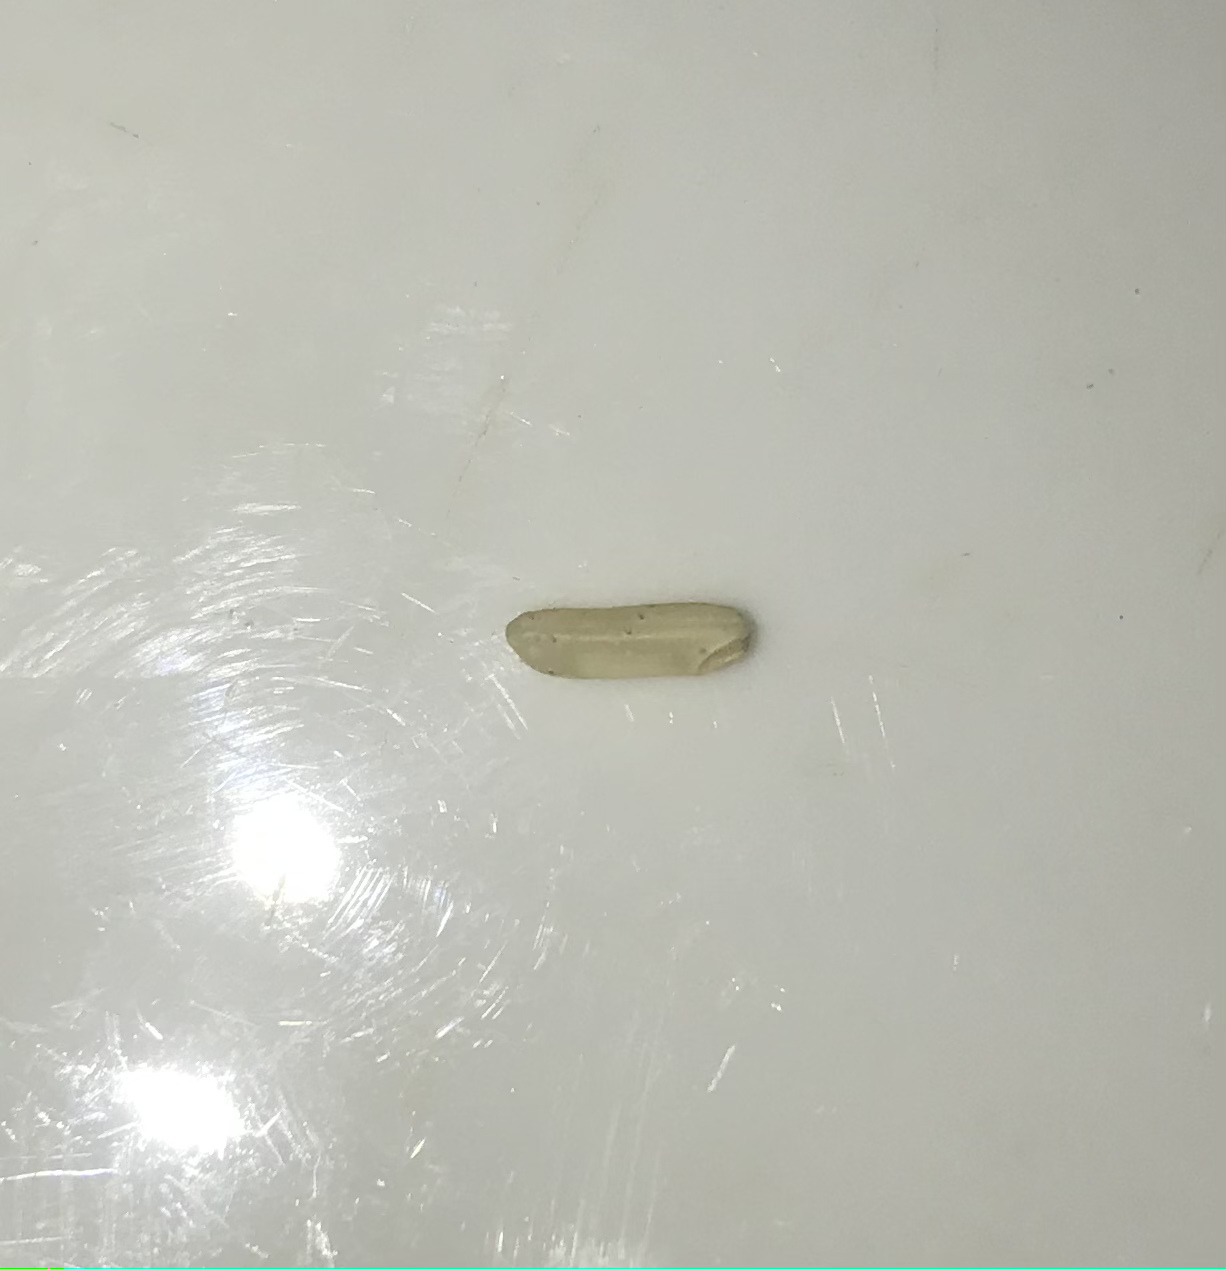Gao Lut Trang: (483, 585, 766, 710)
